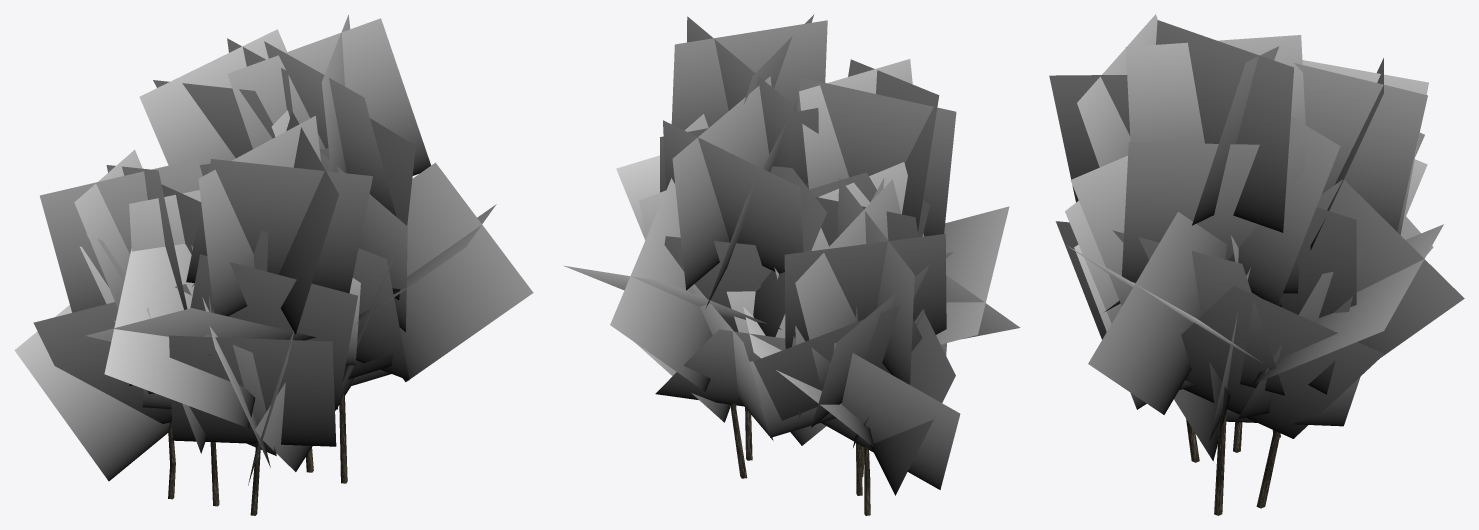
Rendered from tree11.fbx.
The picture shows the model from 3 angles, left to right: view 1: azimuth 30°, elevation 25°; view 2: azimuth 150°, elevation 25°; view 3: azimuth 270°, elevation 25°; orthographic projection. The views are drawn at different scales.
Parts seen in each view (by area): view 1: tree11_leafs, tree11_leafs_flip, tree11_trunk; view 2: tree11_leafs, tree11_leafs_flip, tree11_trunk; view 3: tree11_leafs, tree11_leafs_flip, tree11_trunk.
Boxes of the visible parts, x1,y1,x2,y2 form: tree11_leafs: [14, 15, 533, 485]; tree11_leafs_flip: [18, 15, 526, 479]; tree11_trunk: [168, 394, 347, 515]; tree11_leafs: [563, 14, 1020, 495]; tree11_leafs_flip: [565, 17, 1012, 495]; tree11_trunk: [730, 403, 870, 515]; tree11_leafs: [1049, 14, 1464, 460]; tree11_leafs_flip: [1052, 23, 1464, 457]; tree11_trunk: [1186, 413, 1280, 515].
Bounding box in the file's own units: 8.75 × 8.94 × 7.04.
